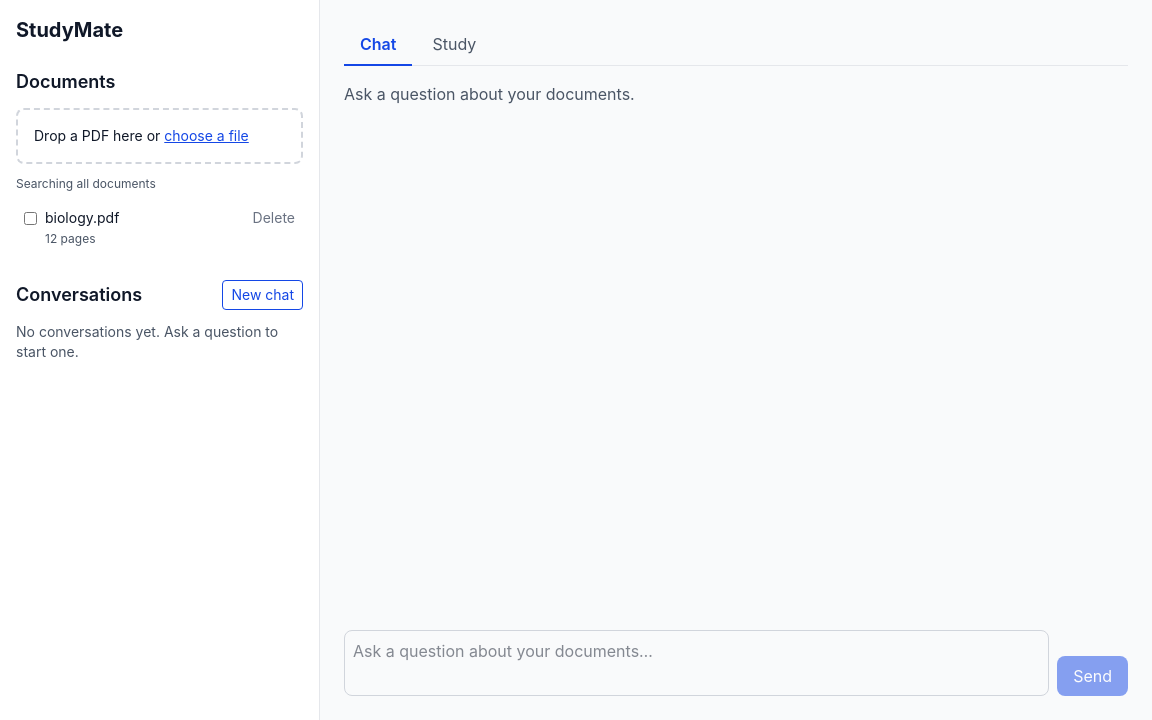
Test: App › keeps the chat when switching to Study and back
Expected: the text "biology.pdf" is shown, [45,209,119,226]
In the text box named "Your question": (697,663) [344,630,1049,696], type "What is mitosis?"
Then press Enter
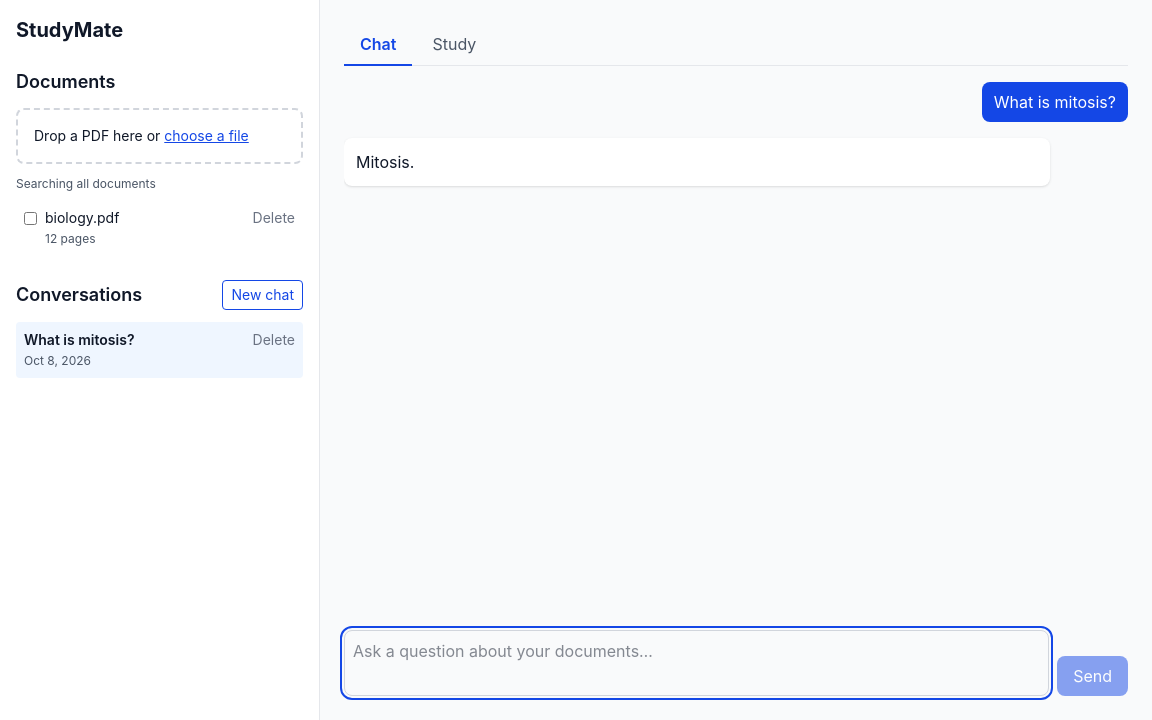
Now the text "Mitosis." is shown, box [356,152,414,172]
Click the tab "Study": (454,45) [416,24,492,66]
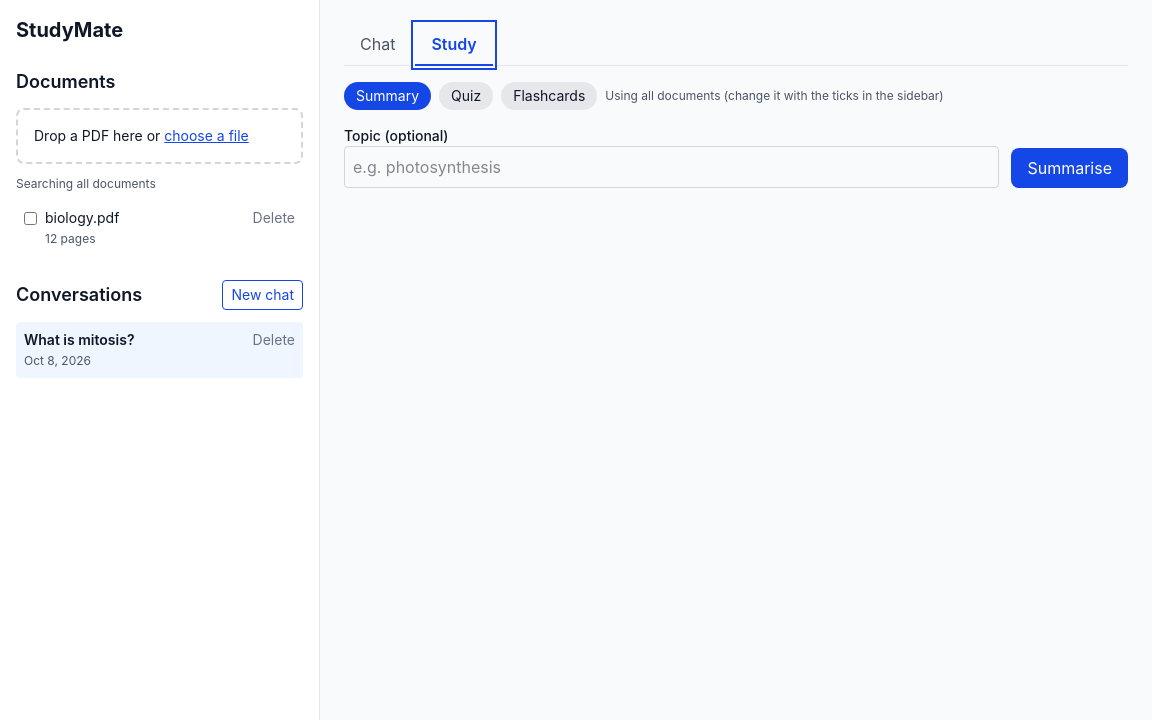
Expected: the text "Mitosis." is not shown
Now the tab "Study" is selected, box [415,24,493,66]
Click the tab "Chat": (378,45) [344,24,411,66]
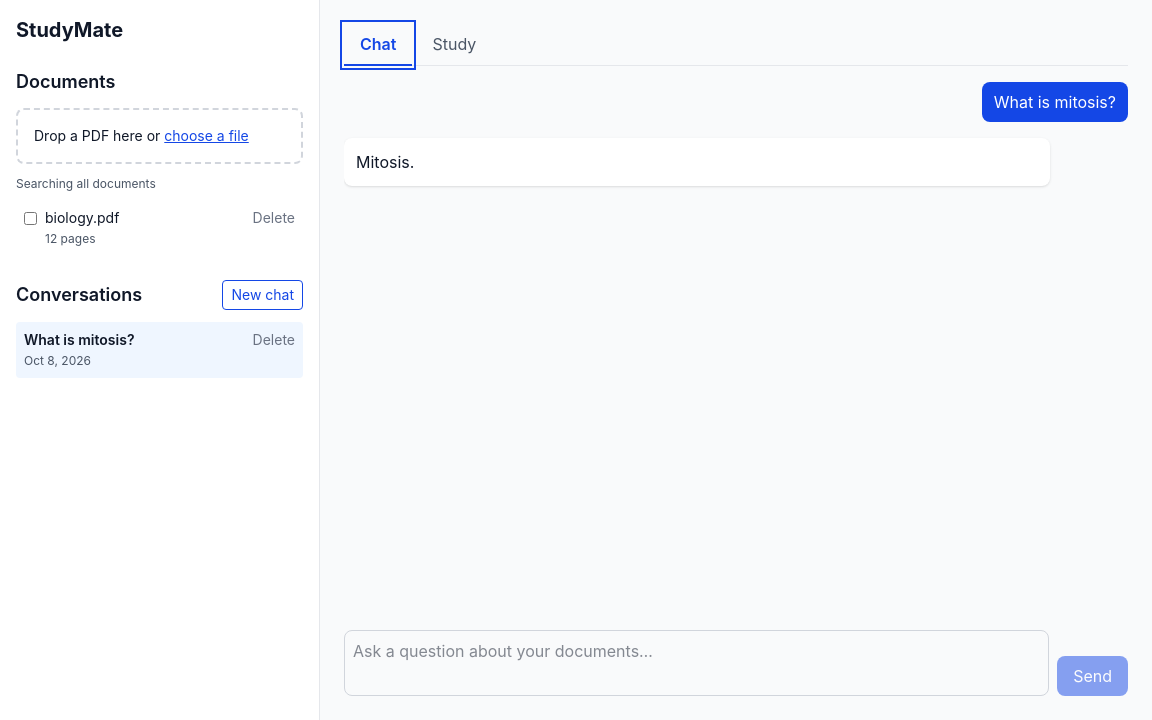
Now the text "Mitosis." is shown, box [356,152,414,172]
